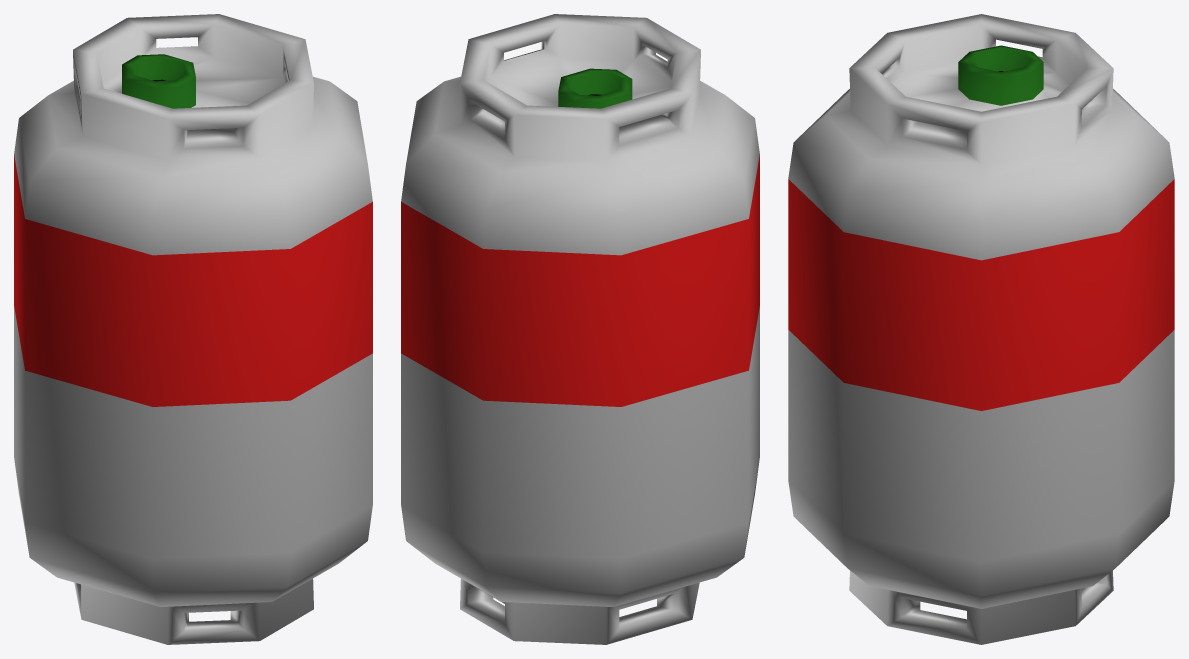
File: GAMEJAMHERO - Prop(Propane).fbx
3 views of the same model, side by side, from view 1: azimuth 30°, elevation 25°; view 2: azimuth 150°, elevation 25°; view 3: azimuth 270°, elevation 25° (orthographic).
Visible parts, largest first — view 1: Cube.019; view 2: Cube.019; view 3: Cube.019.
Boxes of the visible parts, x1,y1,x2,y2 form: Cube.019: (14, 14, 372, 644); Cube.019: (401, 14, 759, 644); Cube.019: (788, 14, 1174, 644).
Size of the model in its own units: 70.62 by 105 by 70.62.
1 material, 1 textured.
